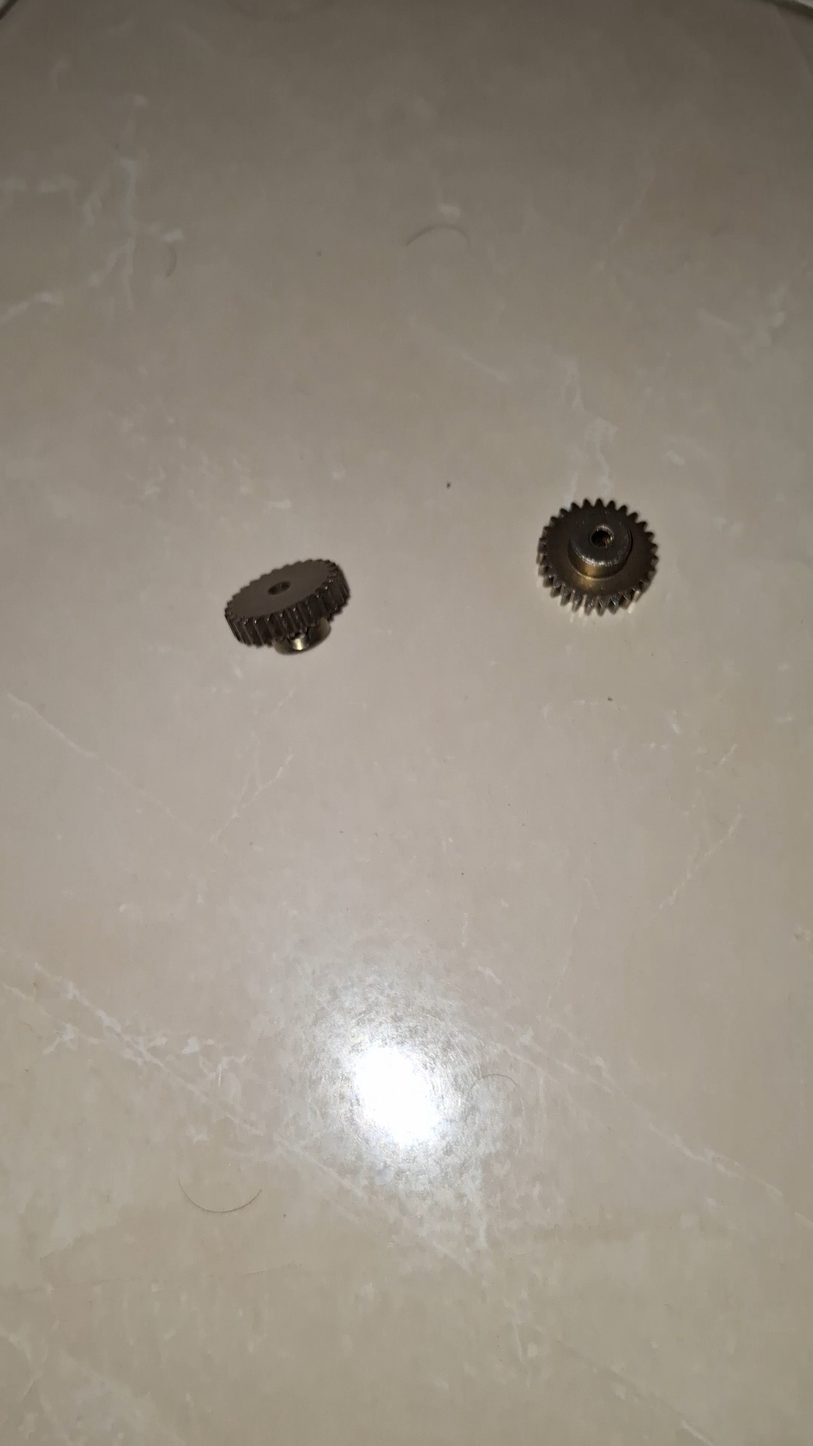spur gear: (537, 499, 657, 612), (226, 560, 349, 652)
